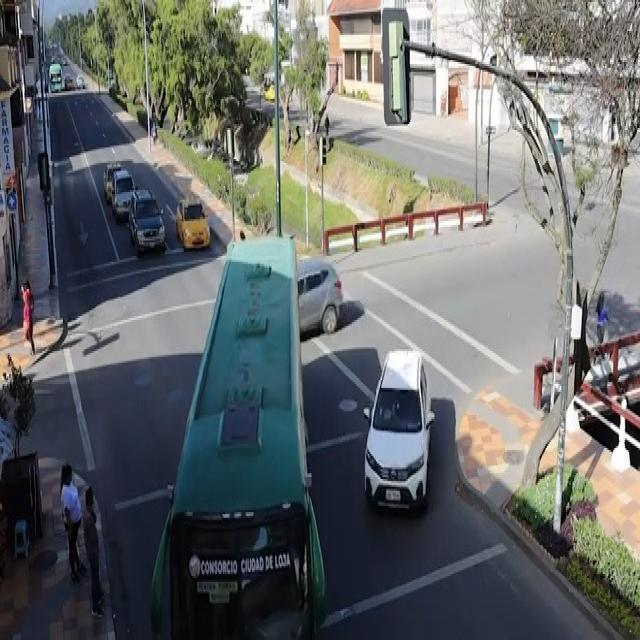BUS: (148, 238, 326, 640)
